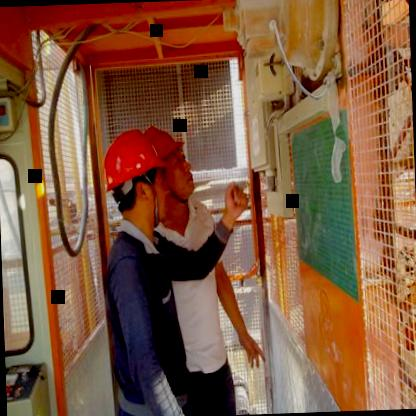helmet: (104, 128, 170, 226), (140, 125, 198, 214)
